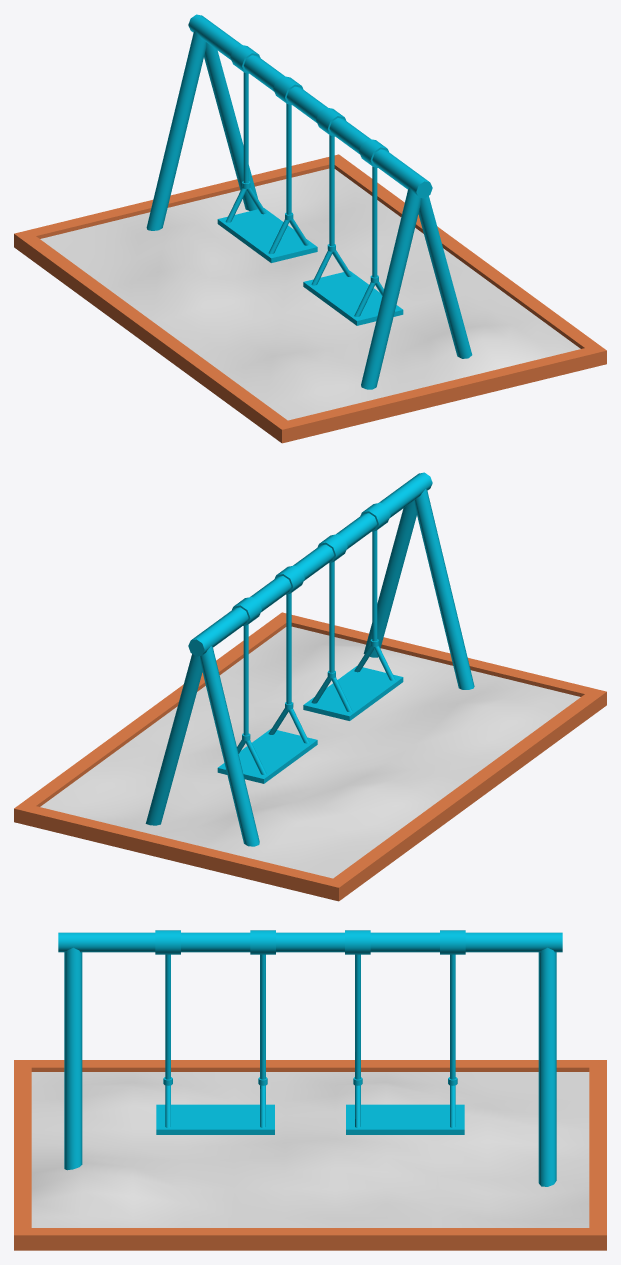
Rendered from columpio.fbx.
The picture shows the model from 3 angles, top to bottom: view 1: azimuth 30°, elevation 25°; view 2: azimuth 150°, elevation 25°; view 3: azimuth 270°, elevation 25°; orthographic projection. The views are drawn at different scales.
Parts seen in each view (by area): view 1: sm_arena.001, sm_separador_terreno.001, sm_columpio.002, sm_columpio.027, sm_columpio.004, sm_columpio.006, sm_columpio.003, sm_columpio.005, sm_columpio.001, sm_columpio.007, sm_columpio.012, sm_columpio.017 (+1 smaller); view 2: sm_arena.001, sm_separador_terreno.001, sm_columpio.002, sm_columpio.027, sm_columpio.004, sm_columpio.005, sm_columpio.001, sm_columpio.006, sm_columpio.003, sm_columpio.022, sm_columpio.007, sm_columpio.012 (+1 smaller); view 3: sm_arena.001, sm_separador_terreno.001, sm_columpio.002, sm_columpio.001, sm_columpio.003, sm_columpio.005, sm_columpio.006, sm_columpio.007, sm_columpio.012, sm_columpio.017, sm_columpio.022, sm_columpio.008 (+3 smaller).
Boxes of the visible parts, box(x1,y1,x2,y2) form: sm_arena.001: box(40, 168, 580, 420); sm_separador_terreno.001: box(14, 154, 606, 443); sm_columpio.002: box(188, 14, 432, 198); sm_columpio.027: box(361, 188, 420, 389); sm_columpio.004: box(146, 31, 206, 230); sm_columpio.006: box(217, 208, 317, 262); sm_columpio.003: box(418, 196, 472, 358); sm_columpio.005: box(303, 270, 403, 325); sm_columpio.001: box(204, 42, 257, 210); sm_columpio.007: box(243, 72, 248, 183); sm_columpio.012: box(286, 103, 291, 214); sm_columpio.017: box(329, 135, 334, 246); sm_arena.001: box(40, 626, 580, 878); sm_separador_terreno.001: box(14, 612, 606, 901); sm_columpio.002: box(188, 472, 432, 656); sm_columpio.027: box(414, 489, 474, 689); sm_columpio.004: box(200, 646, 259, 846); sm_columpio.005: box(303, 666, 403, 720); sm_columpio.001: box(145, 654, 202, 825); sm_columpio.006: box(217, 728, 317, 783); sm_columpio.003: box(363, 500, 416, 657); sm_columpio.022: box(372, 530, 377, 641); sm_columpio.007: box(243, 624, 248, 735); sm_columpio.012: box(286, 593, 291, 704); sm_arena.001: box(31, 1072, 589, 1227); sm_separador_terreno.001: box(14, 1060, 606, 1250); sm_columpio.002: box(58, 932, 562, 952); sm_columpio.001: box(538, 947, 556, 1186); sm_columpio.003: box(64, 947, 82, 1170); sm_columpio.005: box(156, 1104, 274, 1134); sm_columpio.006: box(346, 1104, 464, 1134); sm_columpio.007: box(450, 954, 455, 1079); sm_columpio.012: box(355, 954, 360, 1079); sm_columpio.017: box(260, 954, 265, 1079); sm_columpio.022: box(165, 954, 170, 1079); sm_columpio.008: box(440, 930, 465, 954).
Size of the model in its own units: 350 by 216 by 500.
